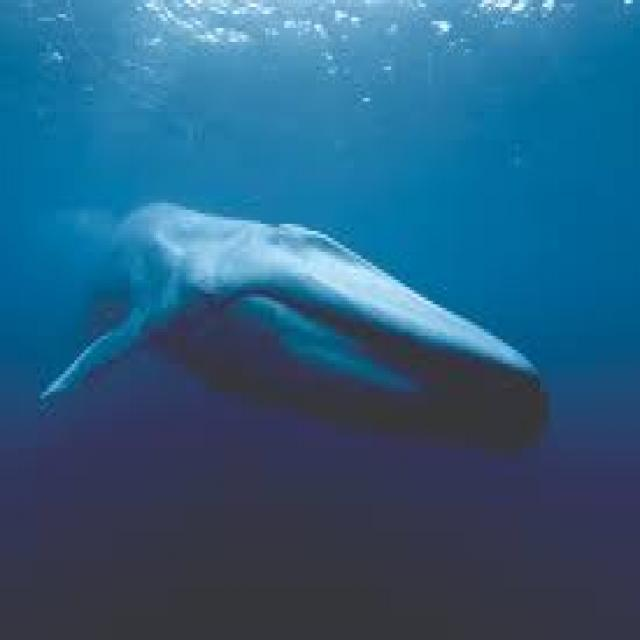blue_whale: (14, 154, 559, 549)
